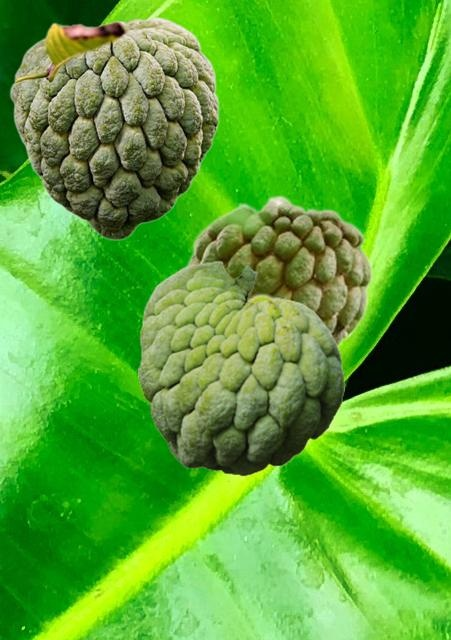atis: (9, 16, 218, 239), (138, 260, 343, 475), (184, 194, 372, 347)
